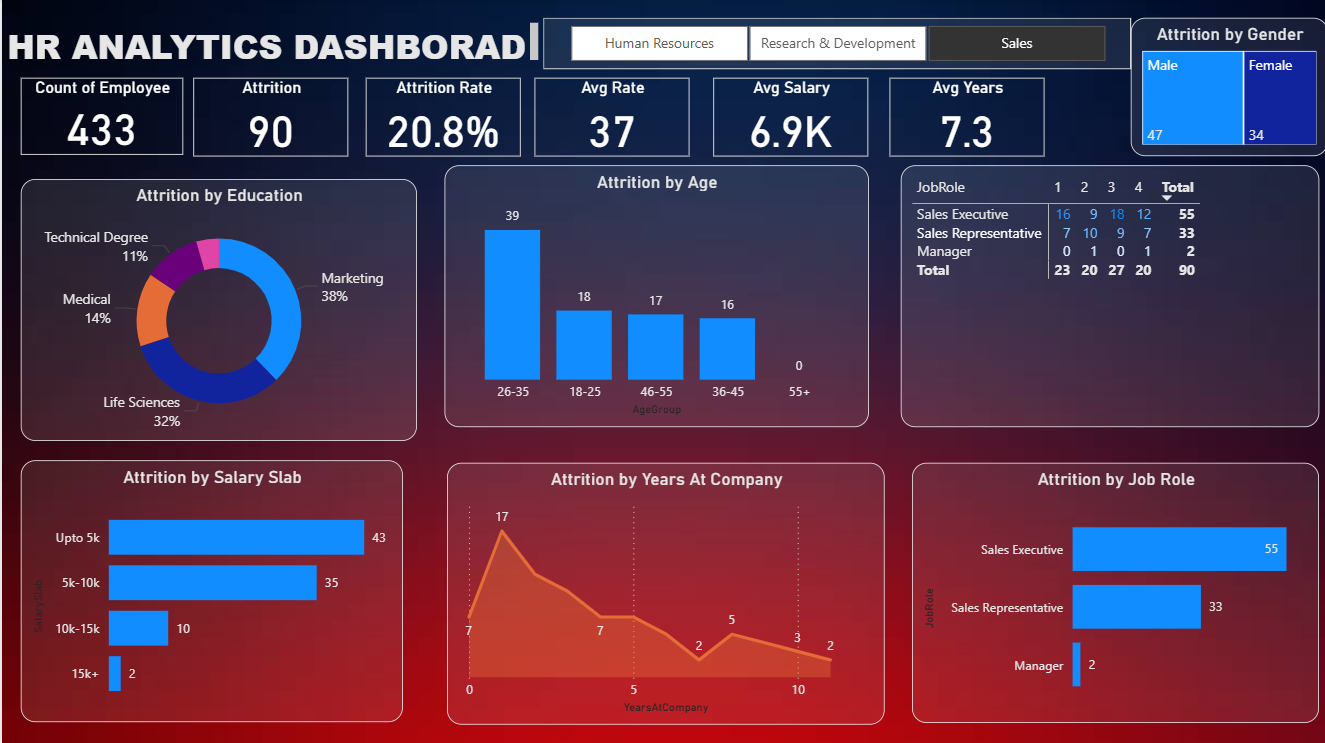

What the dashboard file says about the page in this screenshot:
{"tool":"powerbi","page":{"name":"Page 1","canvas":[1280,720],"ordinal":0},"visuals":[{"type":"card","title":"Count of Employee","fields":{"Values":["CountNonNull(HR_Analytics.EmpID)"]},"box":[18.1,76,156.8,74.8],"z":0},{"type":"card","title":"Attrition","fields":{"Values":["Sum(HR_Analytics.AttritionCount)"]},"box":[185,75.6,149.9,75.6],"z":1000},{"type":"card","title":"Attrition Rate","fields":{"Values":["HR_Analytics.AttritionRate"]},"box":[351.1,75.6,149.9,75.6],"z":2000},{"type":"card","title":"Avg Rate","fields":{"Values":["Avg(HR_Analytics.Age)"]},"box":[514.5,75.6,149.9,75.6],"z":3000},{"type":"card","title":"Avg Salary","fields":{"Values":["Avg(HR_Analytics.MonthlyIncome)"]},"box":[686.1,75.6,149.9,75.6],"z":4000},{"type":"card","title":"Avg Years","fields":{"Values":["Avg(HR_Analytics.YearsAtCompany)"]},"box":[856.2,75.6,149.9,75.6],"z":5000},{"type":"donutChart","title":"Attrition by Education","fields":{"Category":["HR_Analytics.EducationField"],"Y":["Sum(HR_Analytics.AttritionCount)"]},"box":[17.6,174.2,382.2,252.5],"z":6000},{"type":"columnChart","title":"Attrition by Age","fields":{"Category":["HR_Analytics.AgeGroup"],"Y":["Sum(HR_Analytics.AttritionCount)"]},"box":[426.8,160.7,409.2,252.5],"z":7000},{"type":"pivotTable","fields":{"Rows":["HR_Analytics.JobRole"],"Columns":["HR_Analytics.JobSatisfaction"],"Values":["Sum(HR_Analytics.AttritionCount)"]},"box":[867,160.7,403.8,252.5],"z":8000},{"type":"barChart","title":"Attrition by Salary Slab","fields":{"Category":["HR_Analytics.SalarySlab"],"Y":["Sum(HR_Analytics.AttritionCount)"]},"box":[17.6,445.7,368.7,252.5],"z":9000},{"type":"barChart","title":"Attrition by Job Role","fields":{"Category":["HR_Analytics.JobRole"],"Y":["Sum(HR_Analytics.AttritionCount)"]},"box":[877.8,447,393,251.2],"z":10000},{"type":"areaChart","title":"Attrition by Years At Company","fields":{"Category":["HR_Analytics.YearsAtCompany"],"Y":["Sum(HR_Analytics.AttritionCount)"]},"box":[429.5,447,422.7,252.5],"z":11000},{"type":"treemap","title":"Attrition by Gender","fields":{"Group":["HR_Analytics.Gender"],"Values":["Sum(HR_Analytics.AttritionCount)"]},"box":[1089.9,17.6,190.4,133.7],"z":12000},{"type":"slicer","fields":{"Values":["HR_Analytics.Department"]},"box":[522.6,17.6,567.2,50],"z":13000},{"type":"textbox","box":[0,17.6,522.6,50],"z":14000}]}

Visuals, with their boxes in screenshot pixels (x1, y1, x2, y2), scaled from the page's 1280x720 canvas onto the 1325x743 screenshot:
"Count of Employee" card: l=19, t=78, r=181, b=156
"Attrition" card: l=192, t=78, r=347, b=156
"Attrition Rate" card: l=363, t=78, r=519, b=156
"Avg Rate" card: l=533, t=78, r=688, b=156
"Avg Salary" card: l=710, t=78, r=865, b=156
"Avg Years" card: l=886, t=78, r=1041, b=156
"Attrition by Education" donutChart: l=18, t=180, r=414, b=440
"Attrition by Age" columnChart: l=442, t=166, r=865, b=426
pivotTable - HR_Analytics.JobRole x HR_Analytics.JobSatisfaction: l=897, t=166, r=1315, b=426
"Attrition by Salary Slab" barChart: l=18, t=460, r=400, b=721
"Attrition by Job Role" barChart: l=909, t=461, r=1315, b=721
"Attrition by Years At Company" areaChart: l=445, t=461, r=882, b=722
"Attrition by Gender" treemap: l=1128, t=18, r=1324, b=156
slicer - HR_Analytics.Department: l=541, t=18, r=1128, b=70
textbox: l=0, t=18, r=541, b=70
